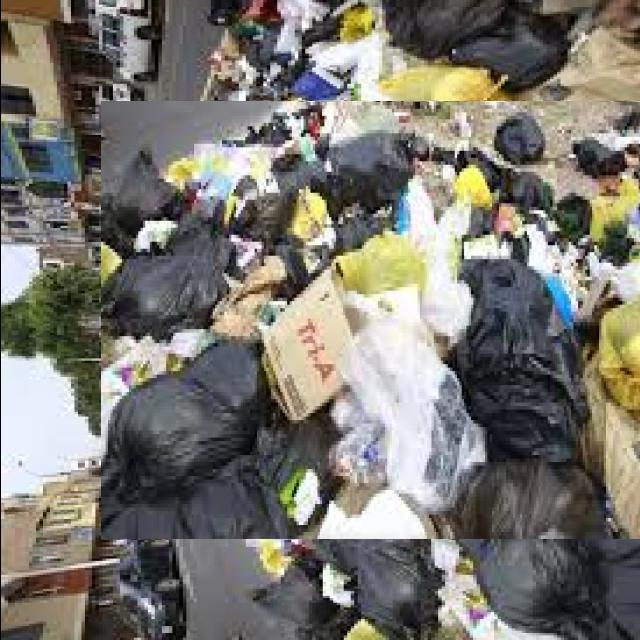garbage: (150, 51, 640, 590)
